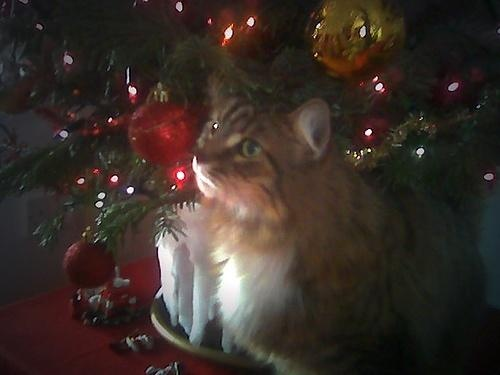cat: (157, 90, 486, 372)
